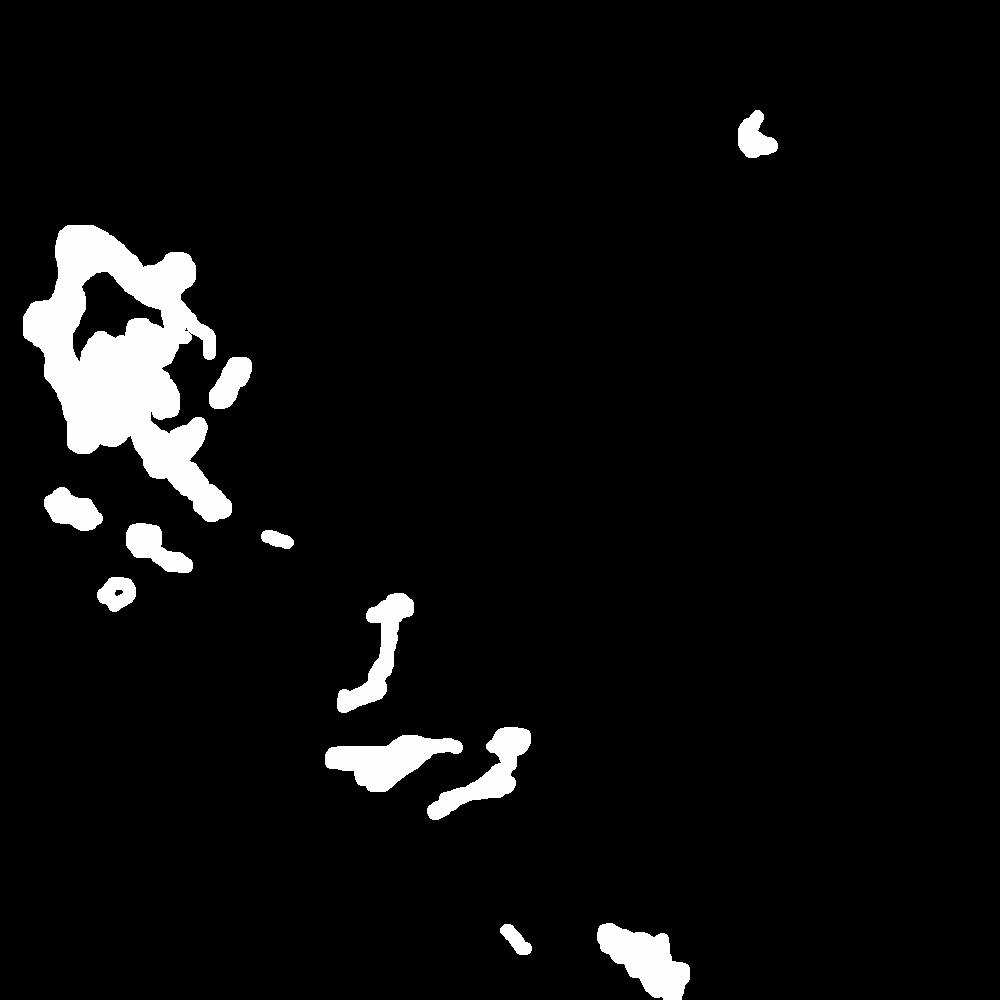illegal: (28, 224, 252, 530), (322, 594, 538, 814), (595, 928, 685, 1000), (694, 108, 786, 161), (121, 521, 196, 571), (469, 906, 542, 953), (87, 578, 137, 610), (258, 527, 292, 557)
